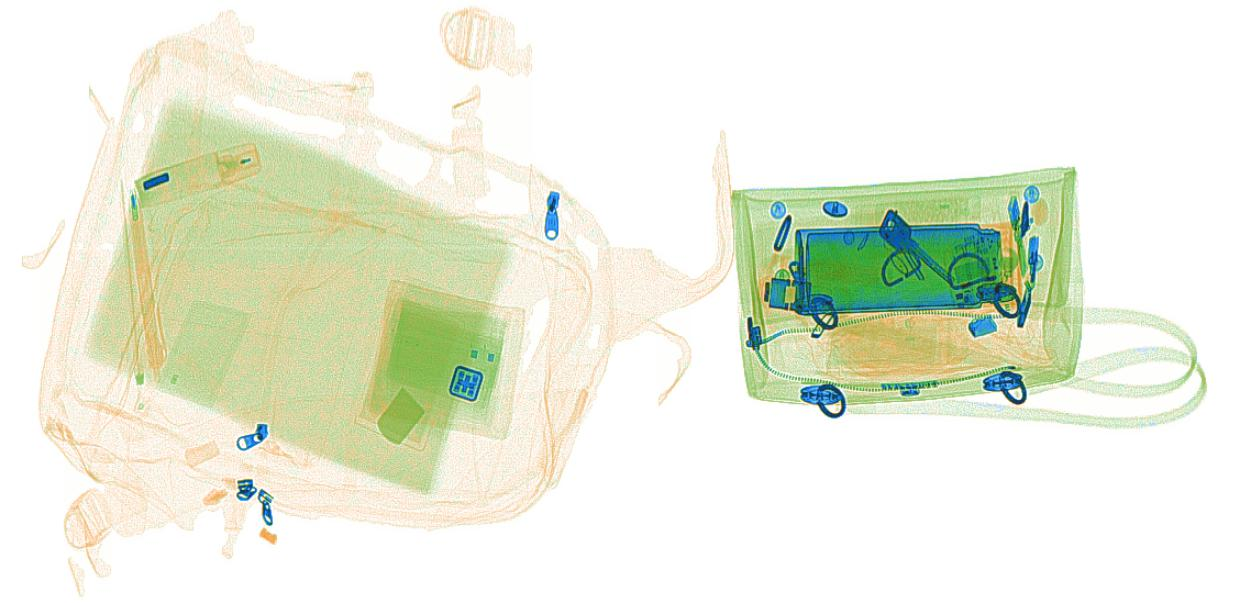USBFlashDisk: (1004, 195, 1033, 279)
